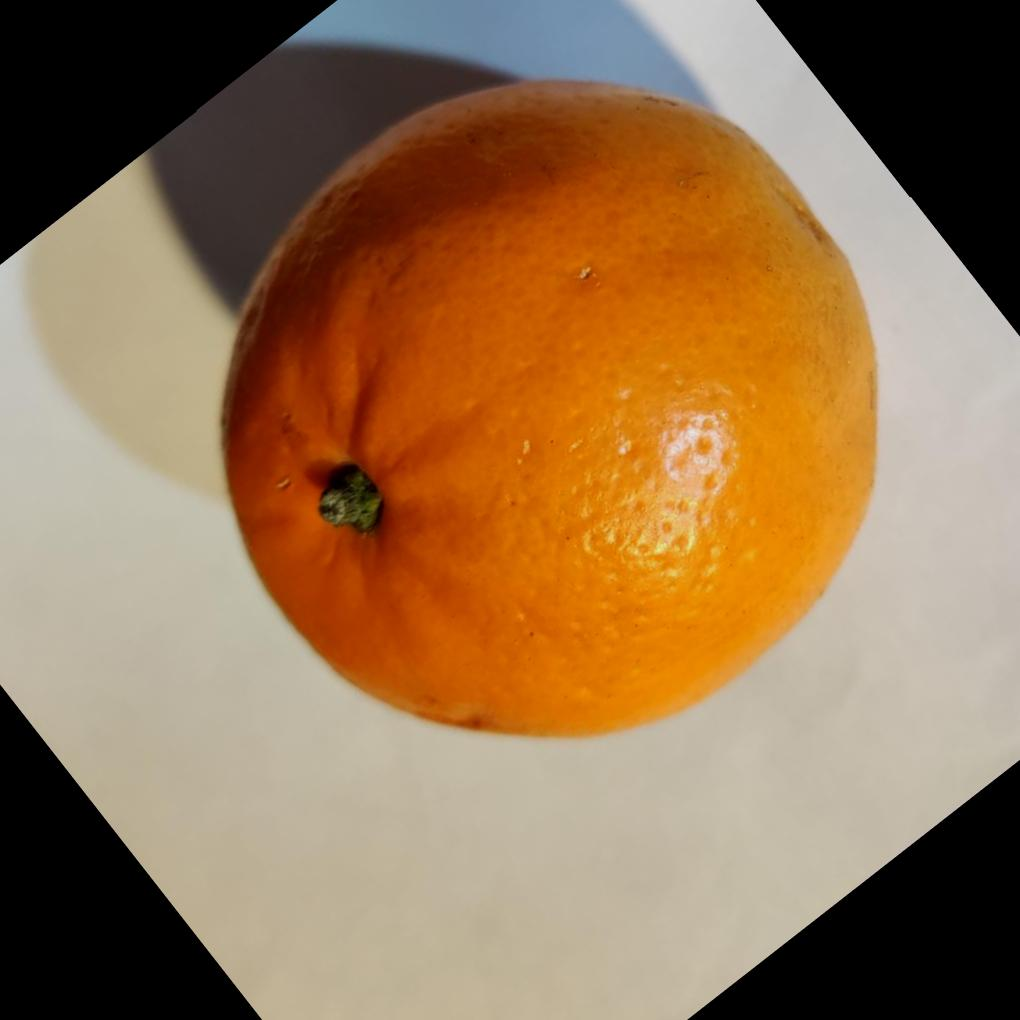FreshGuava: (217, 73, 876, 738)
